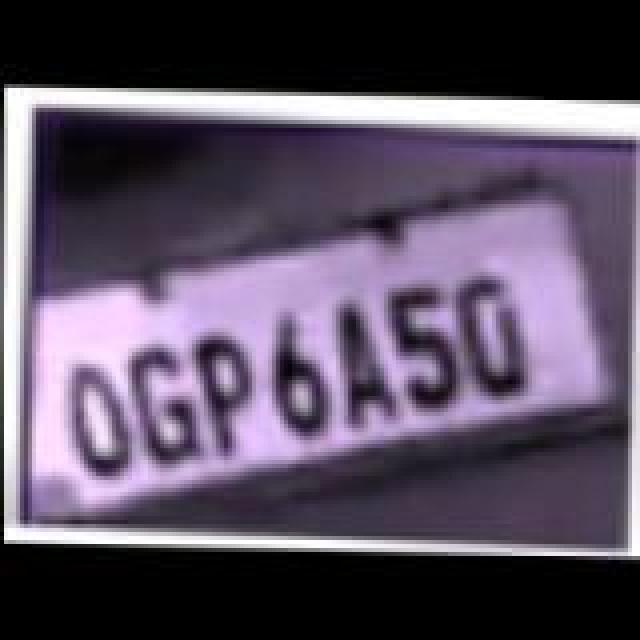5: (386, 284, 466, 412)
6: (266, 312, 338, 444)
A: (334, 300, 406, 432)
D: (454, 272, 534, 400)
G: (124, 344, 204, 468)
O: (64, 364, 136, 484)
P: (192, 336, 264, 464)
